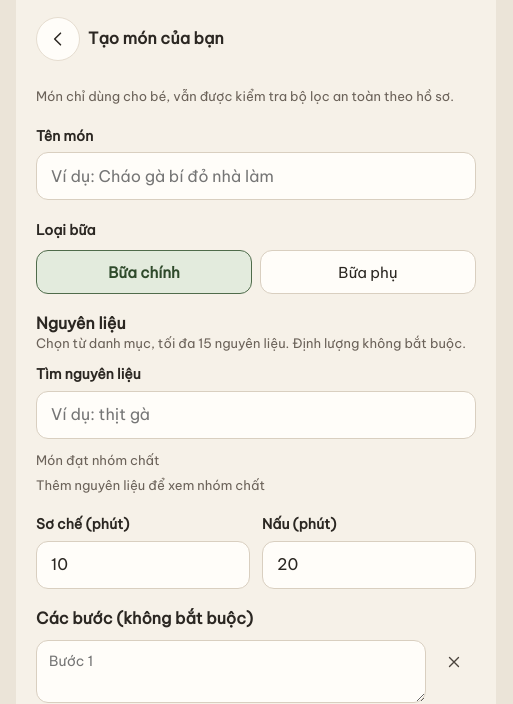
Create a dish (G15) › says which field is wrong
This screenshot has width=513, height=704.
Type "A" into the field labelled "Tên món" at point(256, 176), box x1=36 y1=152 x2=476 y2=200
(page scrolled)
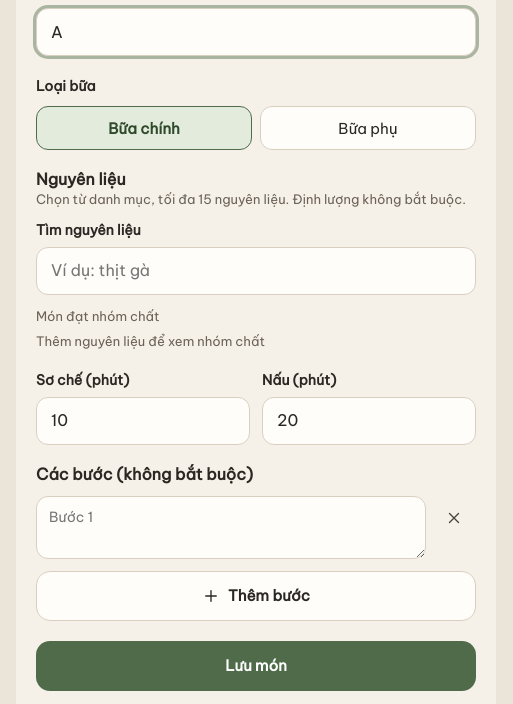
Click the button "Lưu món" at point(256, 666), box x1=36 y1=640 x2=476 y2=690
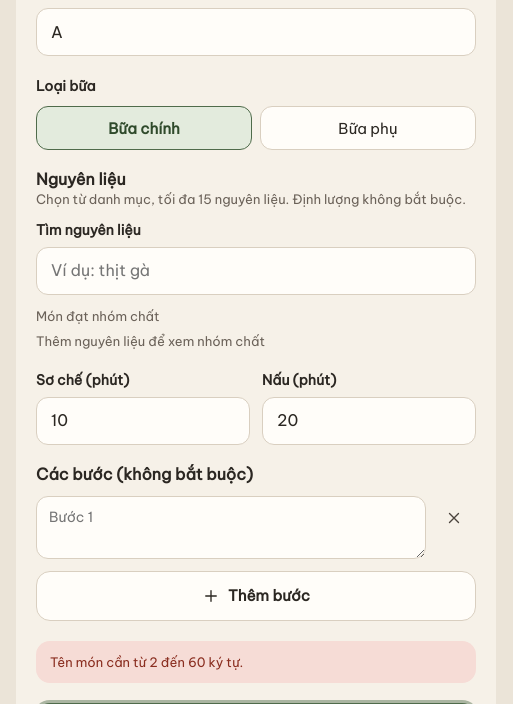
Expected: the text "Tên món cần từ 2 đến 60 ký tự." is shown, x1=50 y1=652 x2=243 y2=671
